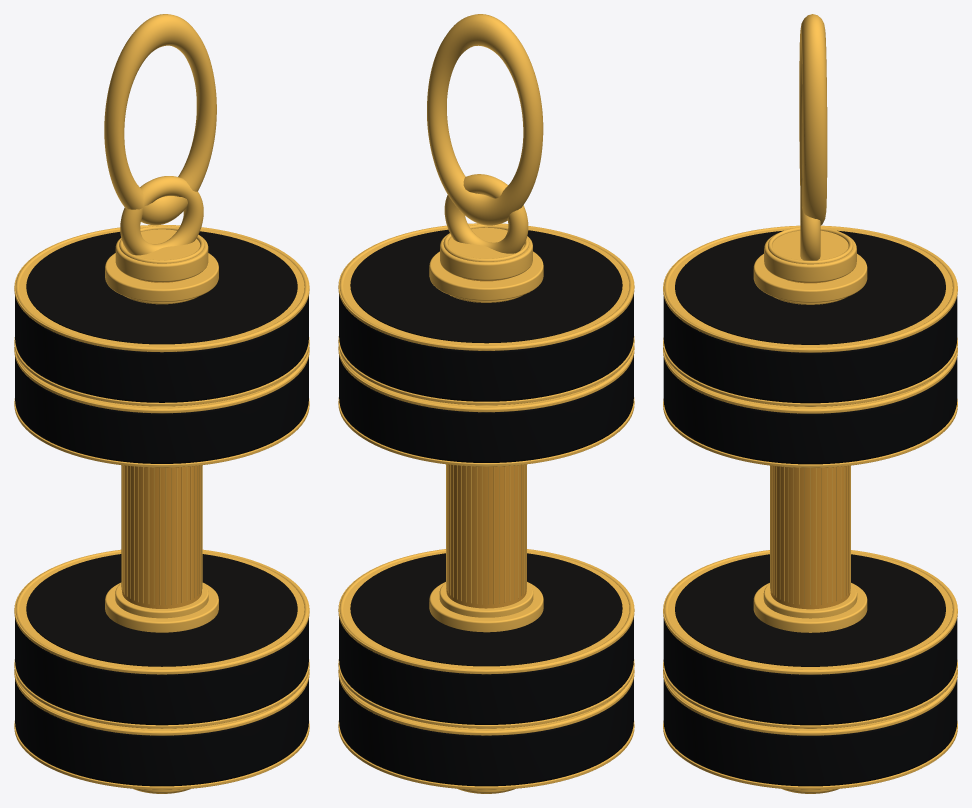
Rendered from 05_dumbbell.glb.
The picture shows the model from 3 angles, left to right: view 1: azimuth 30°, elevation 25°; view 2: azimuth 150°, elevation 25°; view 3: azimuth 270°, elevation 25°; orthographic projection.
Parts seen in each view (by area): view 1: Dumbbell | recessed dark circular face.007, Dumbbell | recessed dark circular face.003, Dumbbell | separate thick black weight, Dumbbell | separate thick black weight.001, Dumbbell | separate thick black weight.002, Dumbbell | separate thick black weight.003, Dumbbell | continuous gold bar, Dumbbell | elongated gold jump ring, Dumbbell | gilded weight face rim.003, Dumbbell | gilded weight face rim.007, Dumbbell | soldered attachment eye, Dumbbell | rounded bar end cap.001 (+14 smaller); view 2: Dumbbell | recessed dark circular face.007, Dumbbell | recessed dark circular face.003, Dumbbell | separate thick black weight, Dumbbell | separate thick black weight.003, Dumbbell | separate thick black weight.002, Dumbbell | separate thick black weight.001, Dumbbell | continuous gold bar, Dumbbell | elongated gold jump ring, Dumbbell | gilded weight face rim.007, Dumbbell | gilded weight face rim.003, Dumbbell | rounded bar end cap.001, Dumbbell | soldered attachment eye (+14 smaller); view 3: Dumbbell | recessed dark circular face.007, Dumbbell | recessed dark circular face.003, Dumbbell | separate thick black weight, Dumbbell | separate thick black weight.002, Dumbbell | separate thick black weight.003, Dumbbell | separate thick black weight.001, Dumbbell | continuous gold bar, Dumbbell | elongated gold jump ring, Dumbbell | gilded weight face rim.007, Dumbbell | gilded weight face rim.003, Dumbbell | rounded bar end cap.001, Dumbbell | collar flared outer disc.003 (+14 smaller).
Boxes of the visible parts, x1,y1,x2,y2 form: Dumbbell | recessed dark circular face.007: [26, 231, 297, 344]; Dumbbell | recessed dark circular face.003: [26, 554, 297, 666]; Dumbbell | separate thick black weight: [15, 679, 308, 786]; Dumbbell | separate thick black weight.001: [15, 618, 308, 725]; Dumbbell | separate thick black weight.002: [15, 357, 308, 463]; Dumbbell | separate thick black weight.003: [15, 296, 308, 402]; Dumbbell | continuous gold bar: [122, 279, 201, 608]; Dumbbell | elongated gold jump ring: [104, 14, 216, 225]; Dumbbell | gilded weight face rim.003: [14, 549, 309, 674]; Dumbbell | gilded weight face rim.007: [14, 225, 309, 352]; Dumbbell | soldered attachment eye: [120, 176, 203, 255]; Dumbbell | rounded bar end cap.001: [115, 229, 208, 282]; Dumbbell | recessed dark circular face.007: [350, 229, 622, 343]; Dumbbell | recessed dark circular face.003: [350, 553, 622, 666]; Dumbbell | separate thick black weight: [339, 679, 633, 786]; Dumbbell | separate thick black weight.003: [339, 294, 633, 401]; Dumbbell | separate thick black weight.002: [339, 355, 633, 462]; Dumbbell | separate thick black weight.001: [339, 617, 633, 724]; Dumbbell | continuous gold bar: [446, 278, 526, 608]; Dumbbell | elongated gold jump ring: [427, 14, 543, 225]; Dumbbell | gilded weight face rim.007: [338, 223, 634, 350]; Dumbbell | gilded weight face rim.003: [338, 549, 634, 674]; Dumbbell | rounded bar end cap.001: [440, 227, 532, 280]; Dumbbell | soldered attachment eye: [444, 174, 528, 253]; Dumbbell | recessed dark circular face.007: [675, 230, 945, 344]; Dumbbell | recessed dark circular face.003: [675, 554, 945, 666]; Dumbbell | separate thick black weight: [663, 679, 957, 786]; Dumbbell | separate thick black weight.002: [663, 357, 957, 464]; Dumbbell | separate thick black weight.003: [663, 296, 957, 403]; Dumbbell | separate thick black weight.001: [663, 618, 957, 725]; Dumbbell | continuous gold bar: [770, 280, 850, 609]; Dumbbell | elongated gold jump ring: [799, 14, 827, 225]; Dumbbell | gilded weight face rim.007: [663, 225, 957, 352]; Dumbbell | gilded weight face rim.003: [663, 550, 957, 674]; Dumbbell | rounded bar end cap.001: [764, 230, 856, 282]; Dumbbell | collar flared outer disc.003: [753, 254, 867, 302].
Size of the model in its own units: 0.0211 by 0.06 by 0.0211.
